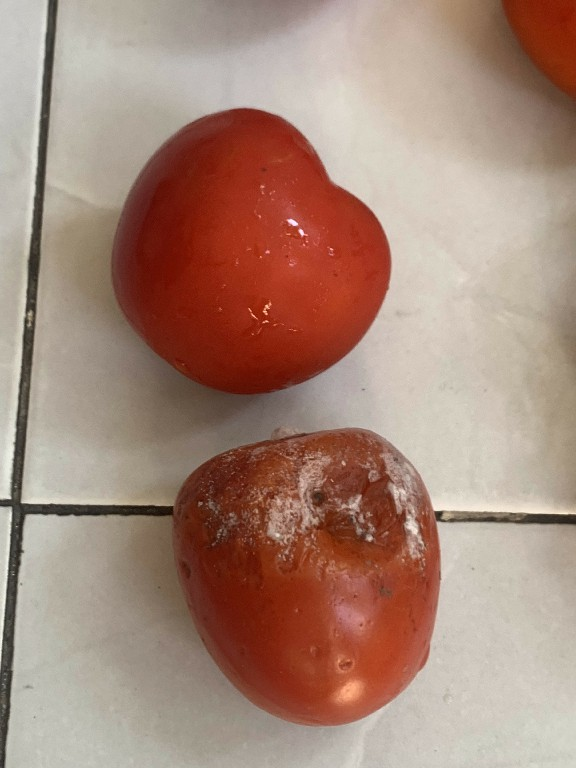NG: (160, 422, 500, 748)
OK: (97, 93, 404, 412)
